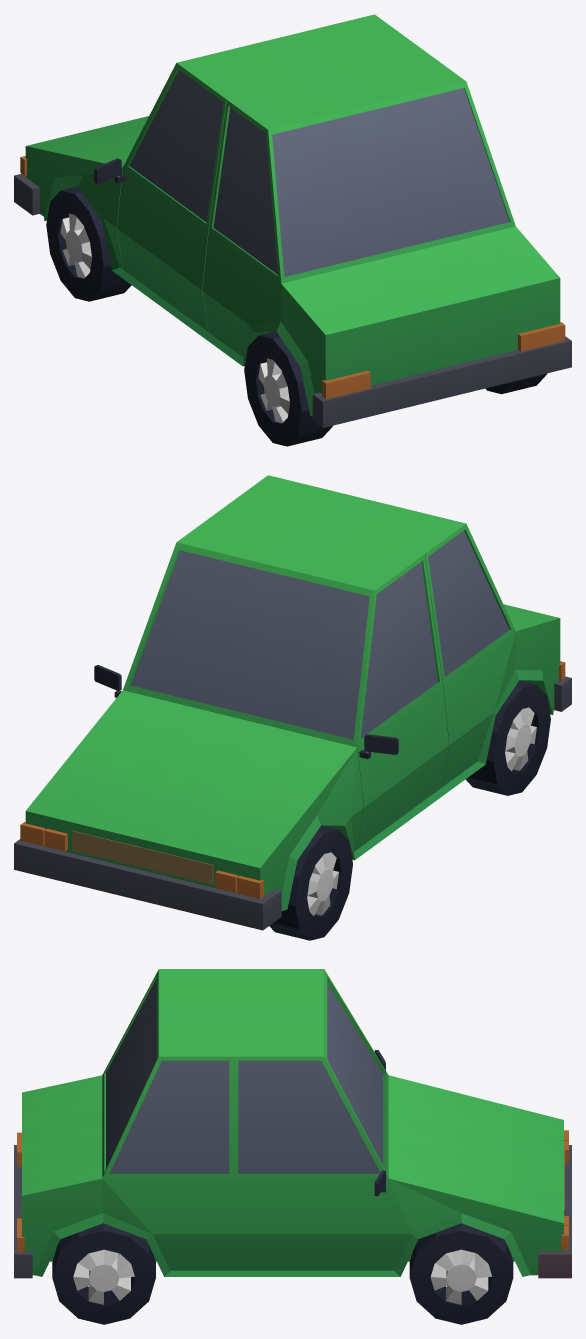
File: Mobil Ijo.fbx
The picture shows the model from 3 angles, top to bottom: view 1: azimuth 30°, elevation 25°; view 2: azimuth 150°, elevation 25°; view 3: azimuth 270°, elevation 25°; orthographic projection. The views are drawn at different scales.
Visible parts, largest first — view 1: Mobil Ijo; view 2: Mobil Ijo; view 3: Mobil Ijo.
Boxes of the visible parts, box(x1,y1,x2,y2) form: Mobil Ijo: box(14, 14, 571, 446); Mobil Ijo: box(14, 475, 571, 940); Mobil Ijo: box(14, 969, 571, 1324).
Size of the model in its own units: 1.44 by 1.3 by 2.55.
